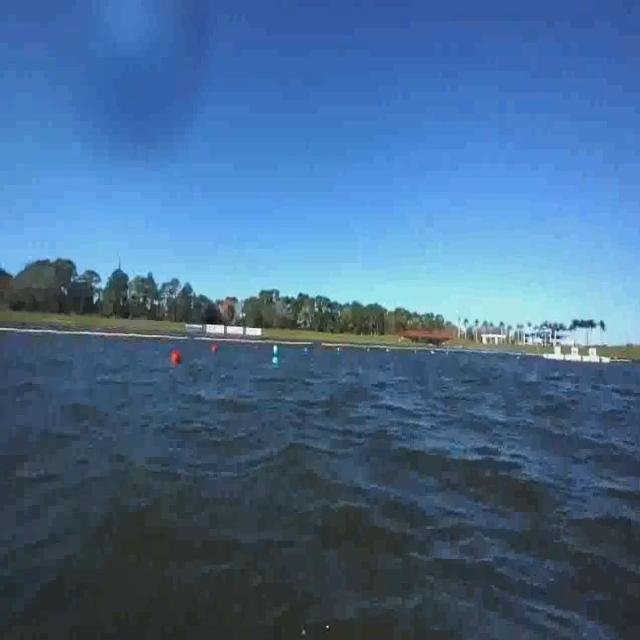red-buoy: (171, 350, 181, 365)
